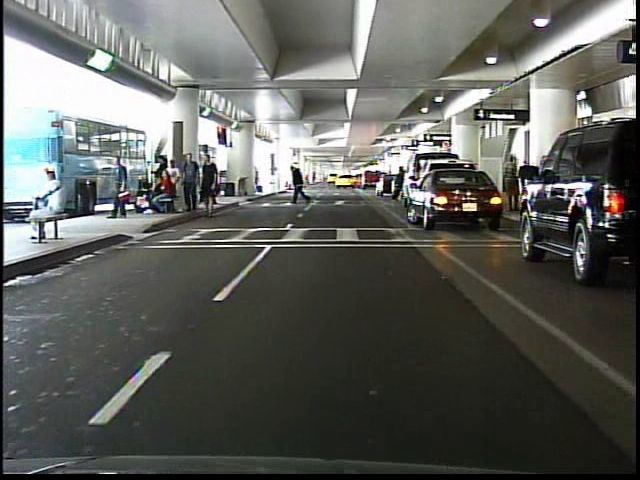person: (28, 163, 70, 244), (107, 149, 137, 224), (499, 151, 522, 212), (288, 162, 312, 208)
